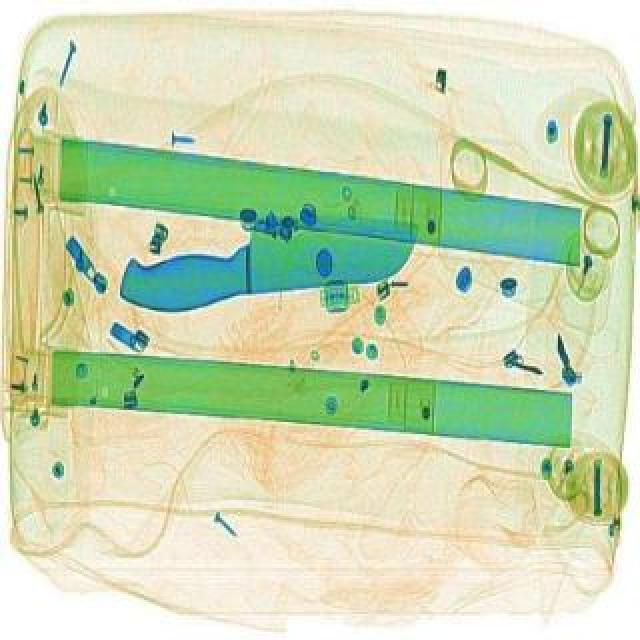knife: (110, 196, 426, 316)
